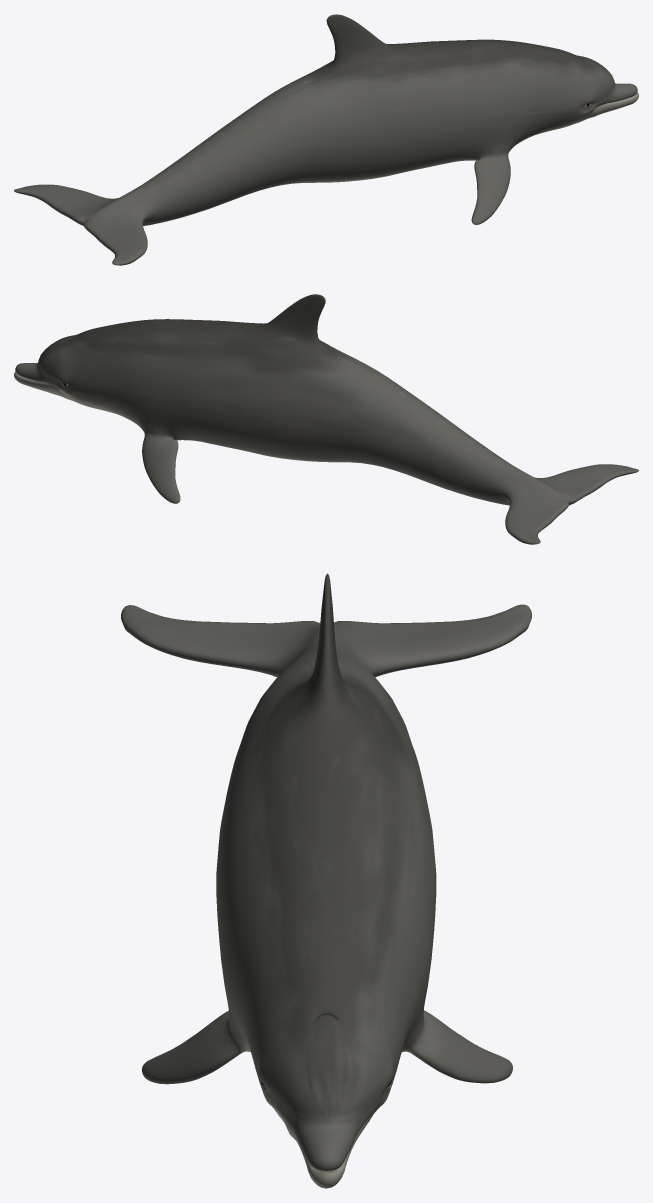
Rendered from dolphin.glb.
The picture shows the model from 3 angles, top to bottom: view 1: azimuth 30°, elevation 25°; view 2: azimuth 150°, elevation 25°; view 3: azimuth 270°, elevation 25°; orthographic projection. The views are drawn at different scales.
Parts seen in each view (by area): view 1: baked_0; view 2: baked_0; view 3: baked_0.
Boxes of the visible parts, bbox=[...] form: baked_0: bbox=[14, 14, 638, 265]; baked_0: bbox=[14, 294, 638, 544]; baked_0: bbox=[121, 573, 531, 1188].
Size of the model in its own units: 1 by 0.3337 by 0.3098.
Materials: 2 (2 with a texture image).
